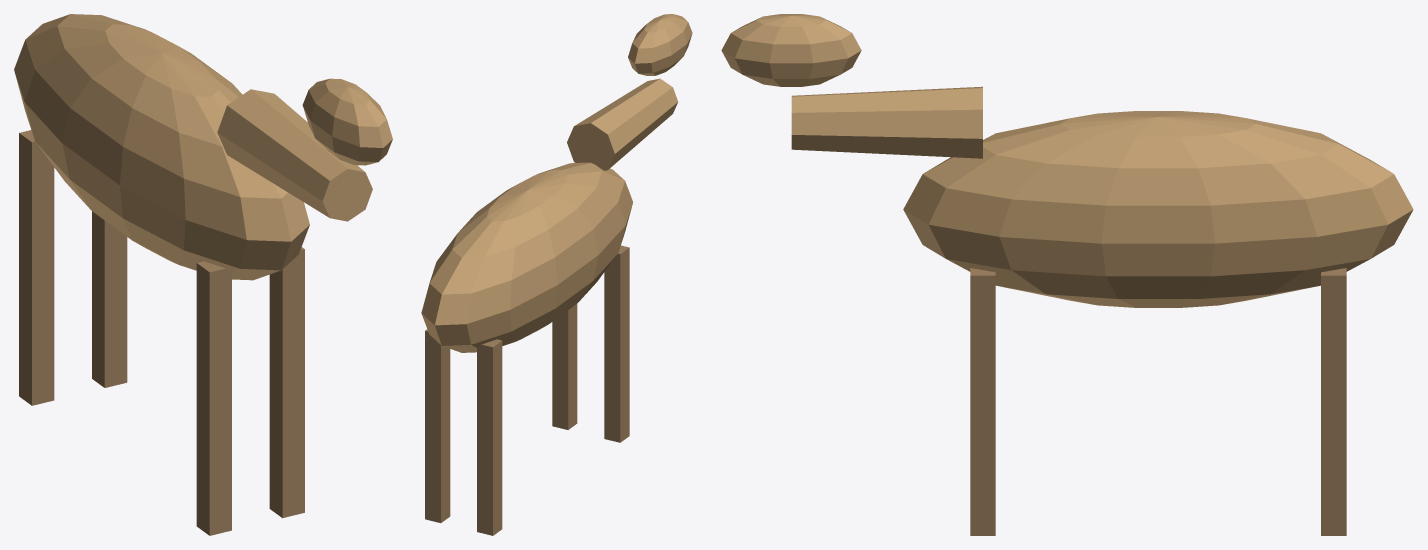
File: synth_deer.glb
3 renders of one model, left to right at view 1: azimuth 30°, elevation 25°; view 2: azimuth 150°, elevation 25°; view 3: azimuth 270°, elevation 25°, orthographic. The views are drawn at different scales.
Bounding box in the file's own units: 0.507 × 1.72 × 2.17.
